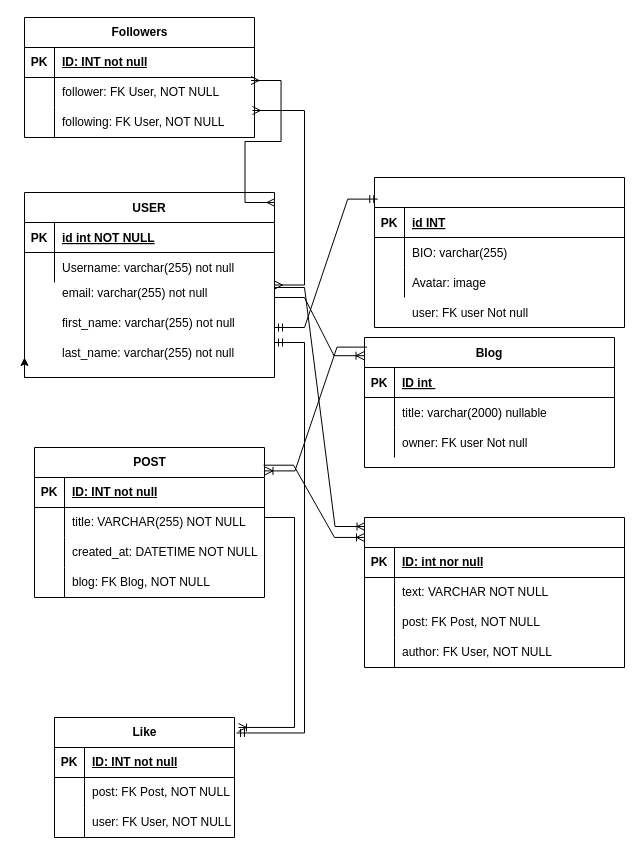
The diagram is 642 pixels wide and 855 high, and some of its shapes have lost their labels. Here are the shapes that lost their labels. From the top down, the box of each, then its label:
(374, 176, 624, 328): Profile
(364, 516, 624, 668): Comment
